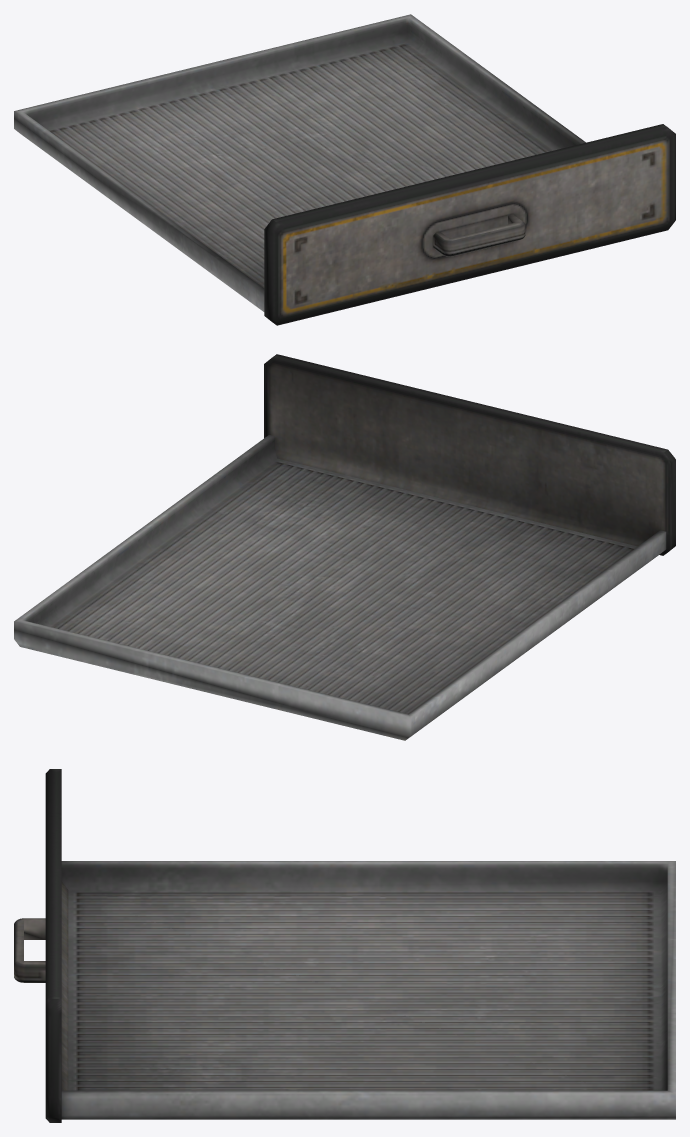
File: 03_02_biomech_test_incubator_drawer.dae
3 views of the same model, one above another, from view 1: azimuth 30°, elevation 25°; view 2: azimuth 150°, elevation 25°; view 3: azimuth 270°, elevation 25° (orthographic). The views are drawn at different scales.
Parts seen in each view (by area): view 1: lada2; view 2: lada2; view 3: lada2.
Boxes of the visible parts, left/top/right/bottom form: lada2: left=14, top=14, right=675, bottom=325; lada2: left=14, top=354, right=675, bottom=740; lada2: left=14, top=769, right=675, bottom=1122.
Bounding box in the file's own units: 1.12 × 0.2713 × 1.32.
